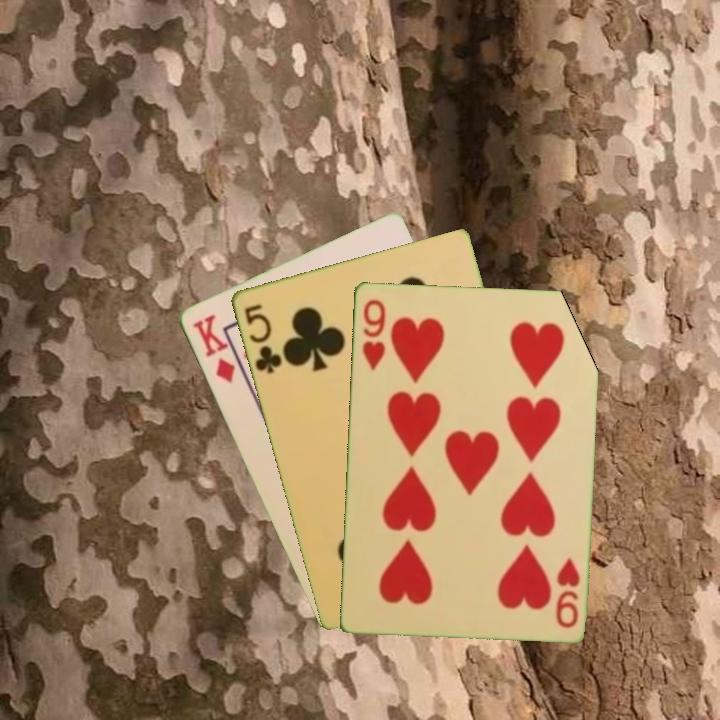5c: (240, 300, 285, 376)
9h: (552, 554, 583, 631), (358, 295, 388, 373)
Kd: (188, 311, 238, 386)
